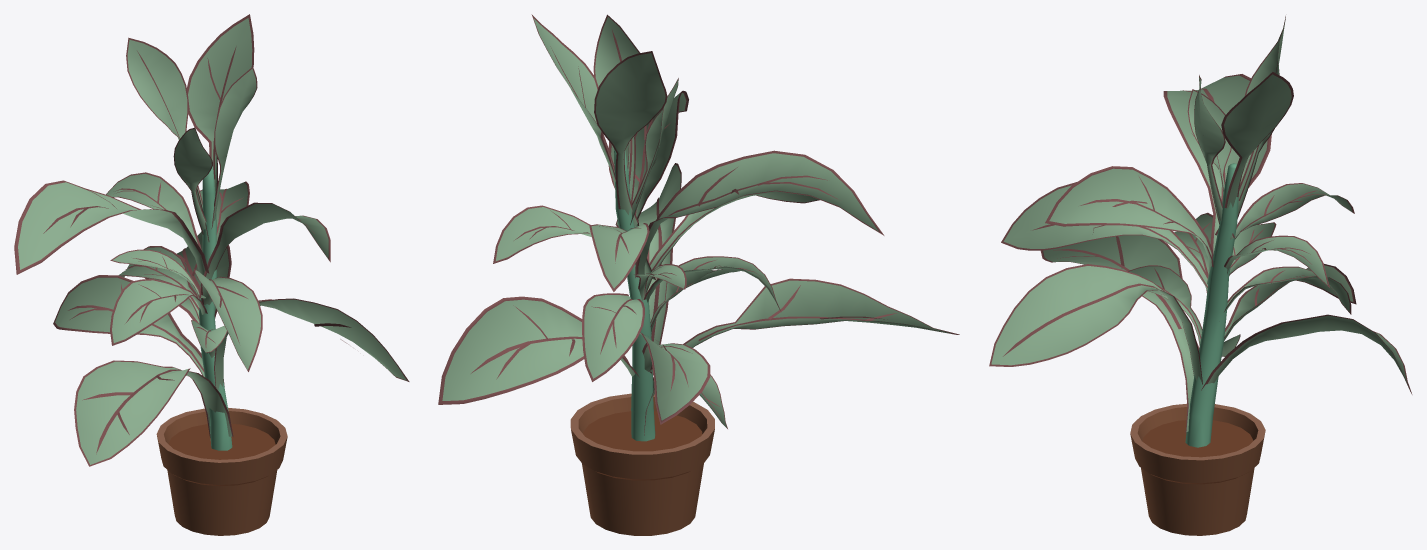
The model's file is Mesh_Room_Bonsai_03.fbx.
3 renders of one model, left to right at view 1: azimuth 30°, elevation 25°; view 2: azimuth 150°, elevation 25°; view 3: azimuth 270°, elevation 25°, orthographic. The views are drawn at different scales.
Parts seen in each view (by area): view 1: Mesh_Room_Bonsai_03; view 2: Mesh_Room_Bonsai_03; view 3: Mesh_Room_Bonsai_03.
Boxes of the visible parts, x1=… form: Mesh_Room_Bonsai_03: x1=14, y1=14, x2=409, y2=535; Mesh_Room_Bonsai_03: x1=438, y1=14, x2=959, y2=535; Mesh_Room_Bonsai_03: x1=989, y1=16, x2=1412, y2=535.
Size of the model in its own units: 83.21 by 123 by 98.97.
Materials: 1 (1 with a texture image).
